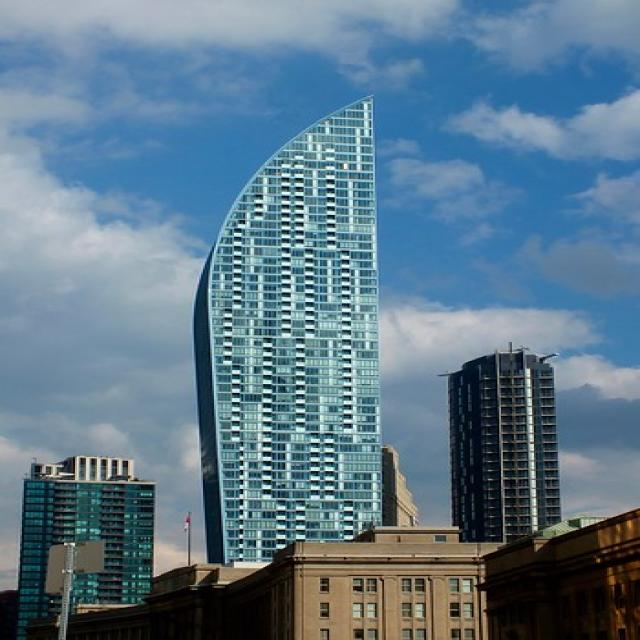Normal_building: (183, 86, 393, 577), (12, 448, 160, 635), (436, 348, 568, 550)
